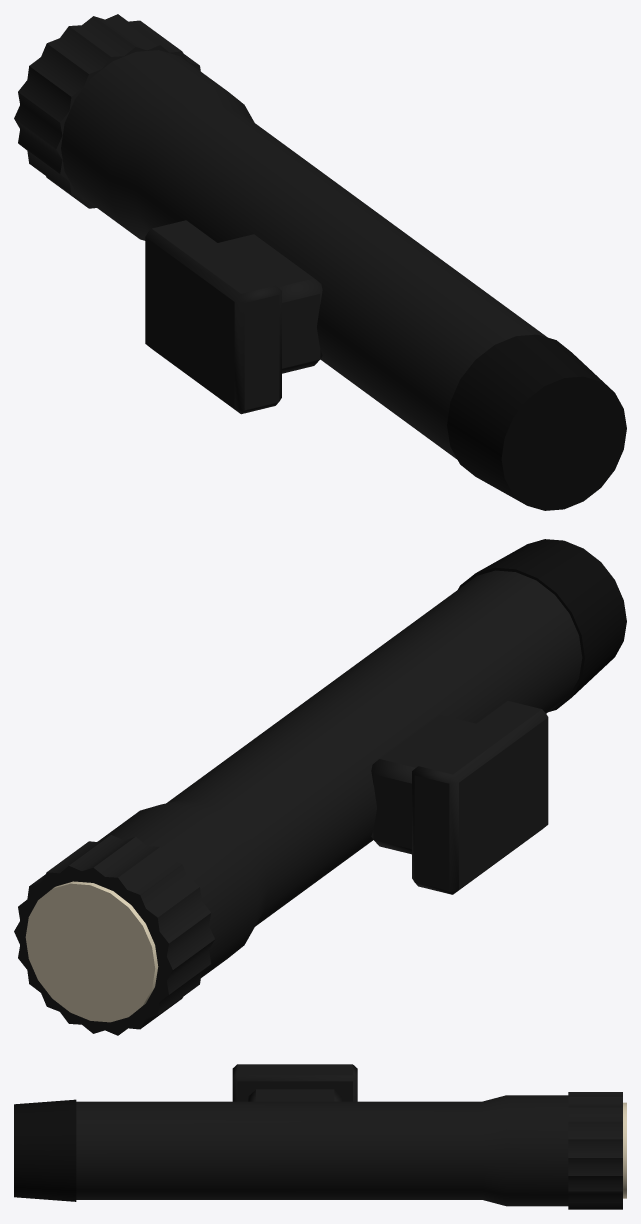
File: light.glb
3 views of the same model, one above another, from view 1: azimuth 30°, elevation 25°; view 2: azimuth 150°, elevation 25°; view 3: azimuth 270°, elevation 25° (orthographic). The views are drawn at different scales.
Parts seen in each view (by area): view 1: body; view 2: body; view 3: body.
Part boxes in pixels (x1,y1,x2,y2): body: (14, 14, 626, 510); body: (14, 539, 626, 1035); body: (14, 1064, 626, 1209).
Bounding box in the file's own units: 0.0452 × 0.0304 × 0.157.
